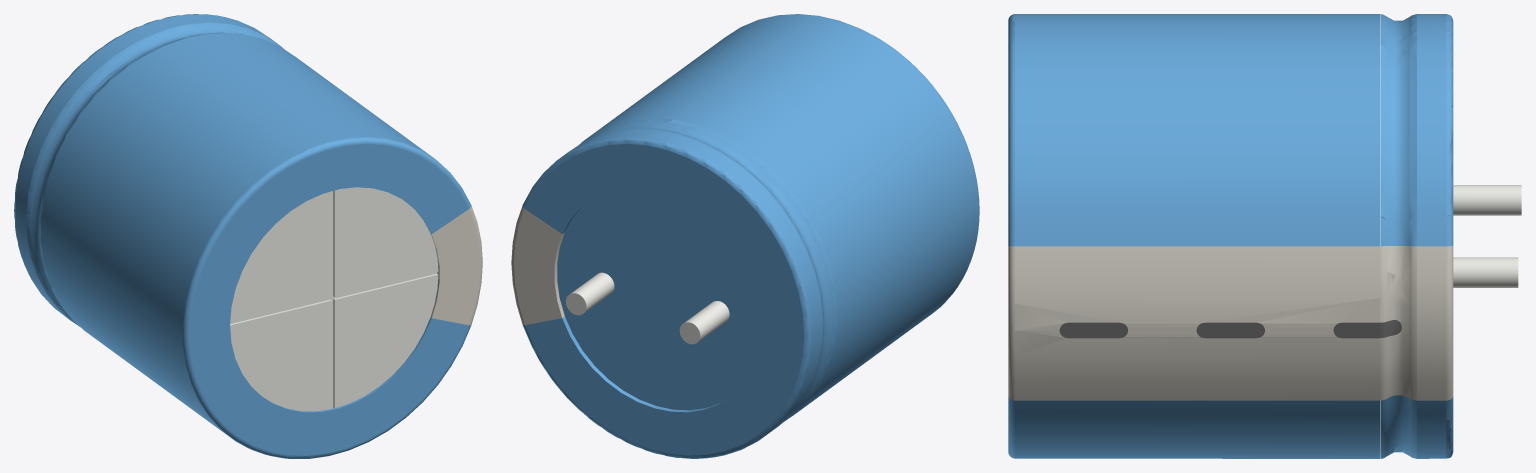
The model's file is CP_Radial_D13.0mm_P5.00mm.glb.
3 views of the same model, side by side, from view 1: azimuth 30°, elevation 25°; view 2: azimuth 150°, elevation 25°; view 3: azimuth 270°, elevation 25° (orthographic). The views are drawn at different scales.
Visible parts, largest first — view 1: Shape_IndexedFaceSet.021, Shape_IndexedFaceSet.029, Shape_IndexedFaceSet.033, Shape_IndexedFaceSet.035, Shape_IndexedFaceSet.039, Shape_IndexedFaceSet.042, Shape_IndexedFaceSet.011, Shape_IndexedFaceSet.024, Shape_IndexedFaceSet.030, Shape_IndexedFaceSet.015, Shape_IndexedFaceSet.013, Shape_IndexedFaceSet.036 (+2 smaller); view 2: Shape_IndexedFaceSet.021, Shape_IndexedFaceSet.002, Shape_IndexedFaceSet.006, Shape_IndexedFaceSet.011, Shape_IndexedFaceSet.009, Shape_IndexedFaceSet.007, Shape_IndexedFaceSet.015, Shape_IndexedFaceSet.017, Shape_IndexedFaceSet.005, Shape_IndexedFaceSet.001, Shape_IndexedFaceSet.003, Shape_IndexedFaceSet.013 (+1 smaller); view 3: Shape_IndexedFaceSet.021, Shape_IndexedFaceSet.023, Shape_IndexedFaceSet.011, Shape_IndexedFaceSet.015, Shape_IndexedFaceSet.012, Shape_IndexedFaceSet.016, Shape_IndexedFaceSet.013, Shape_IndexedFaceSet.017, Shape_IndexedFaceSet.009, Shape_IndexedFaceSet.005, Shape_IndexedFaceSet.001, Shape_IndexedFaceSet.024 (+7 smaller).
Part boxes in pixels (<box>): Shape_IndexedFaceSet.021: <box>40,33,434,434</box>; Shape_IndexedFaceSet.029: <box>189,144,468,455</box>; Shape_IndexedFaceSet.033: <box>334,275,438,407</box>; Shape_IndexedFaceSet.035: <box>334,187,438,297</box>; Shape_IndexedFaceSet.039: <box>230,300,332,411</box>; Shape_IndexedFaceSet.042: <box>230,191,332,322</box>; Shape_IndexedFaceSet.011: <box>15,14,277,318</box>; Shape_IndexedFaceSet.024: <box>182,137,471,458</box>; Shape_IndexedFaceSet.030: <box>432,209,479,325</box>; Shape_IndexedFaceSet.015: <box>31,26,272,315</box>; Shape_IndexedFaceSet.013: <box>26,22,284,327</box>; Shape_IndexedFaceSet.036: <box>230,191,437,407</box>; Shape_IndexedFaceSet.021: <box>585,14,978,413</box>; Shape_IndexedFaceSet.002: <box>557,187,763,410</box>; Shape_IndexedFaceSet.006: <box>525,144,803,455</box>; Shape_IndexedFaceSet.011: <box>559,128,822,437</box>; Shape_IndexedFaceSet.009: <box>522,137,810,458</box>; Shape_IndexedFaceSet.007: <box>514,209,561,324</box>; Shape_IndexedFaceSet.015: <box>591,122,832,410</box>; Shape_IndexedFaceSet.017: <box>579,118,836,421</box>; Shape_IndexedFaceSet.005: <box>685,301,729,341</box>; Shape_IndexedFaceSet.001: <box>571,272,614,312</box>; Shape_IndexedFaceSet.003: <box>562,207,731,412</box>; Shape_IndexedFaceSet.013: <box>642,128,823,423</box>; Shape_IndexedFaceSet.021: <box>1015,14,1379,458</box>; Shape_IndexedFaceSet.023: <box>1015,246,1379,400</box>; Shape_IndexedFaceSet.011: <box>1417,14,1446,458</box>; Shape_IndexedFaceSet.015: <box>1387,17,1409,455</box>; Shape_IndexedFaceSet.012: <box>1417,246,1446,400</box>; Shape_IndexedFaceSet.016: <box>1387,246,1409,398</box>; Shape_IndexedFaceSet.013: <box>1409,14,1416,458</box>; Shape_IndexedFaceSet.017: <box>1380,14,1387,458</box>; Shape_IndexedFaceSet.009: <box>1446,14,1453,458</box>; Shape_IndexedFaceSet.005: <box>1453,185,1521,215</box>; Shape_IndexedFaceSet.001: <box>1453,257,1518,287</box>; Shape_IndexedFaceSet.024: <box>1008,14,1014,458</box>.
Size of the model in its own units: 5.12 by 5.12 by 5.91.
